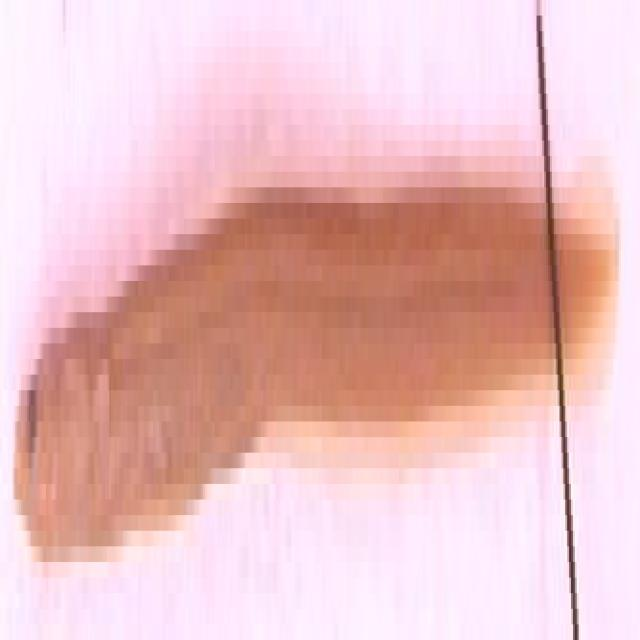Freshwater-Eel: (1, 38, 640, 550)
